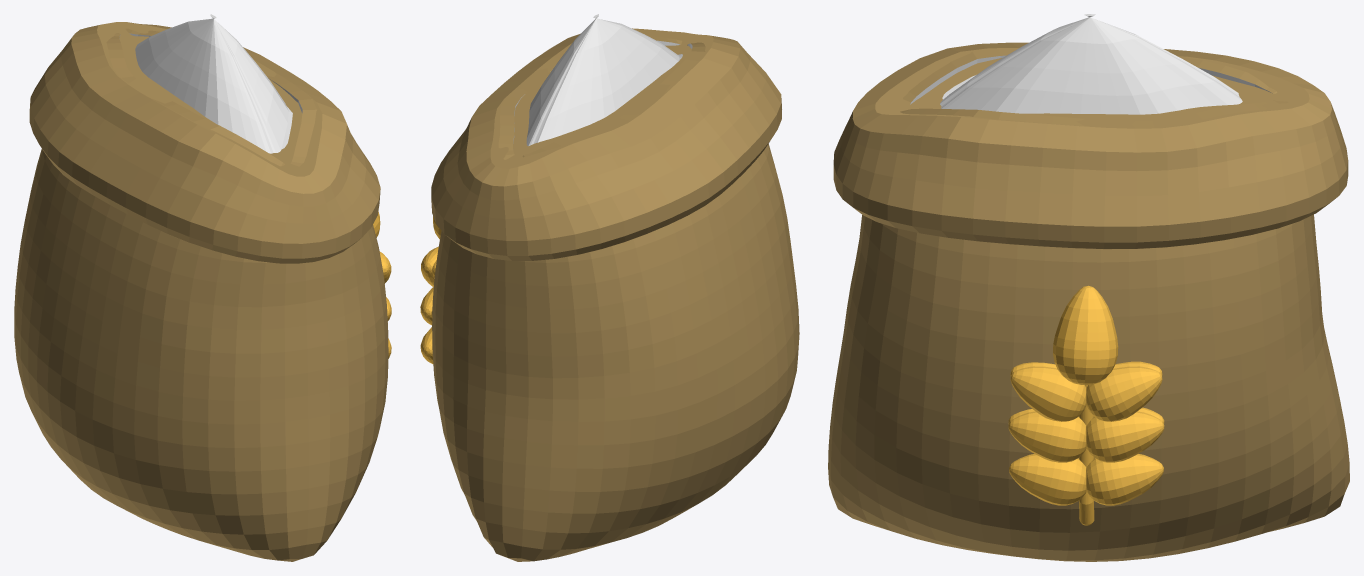
The model's file is flour - Copy.fbx.
The picture shows the model from 3 angles, left to right: view 1: azimuth 30°, elevation 25°; view 2: azimuth 150°, elevation 25°; view 3: azimuth 270°, elevation 25°; orthographic projection. The views are drawn at different scales.
Parts seen in each view (by area): view 1: Plane, Plane.002, Plane.003, Plane.001; view 2: Plane, Plane.002, Plane.003, Plane.001; view 3: Plane, Plane.002, Plane.003, Sphere.001, Sphere.002, Sphere.003, Sphere, Plane.001, Cylinder.
Boxes of the visible parts, box(x1,y1,x2,y2) form: Plane: box(14, 22, 388, 561); Plane.002: box(119, 14, 302, 153); Plane.003: box(97, 22, 322, 176); Plane.001: box(106, 28, 316, 166); Plane: box(431, 33, 799, 561); Plane.002: box(513, 14, 692, 146); Plane.003: box(490, 28, 713, 168); Plane.001: box(498, 36, 705, 159); Plane: box(828, 42, 1349, 561); Plane.002: box(910, 14, 1272, 114); Plane.003: box(875, 48, 1309, 128); Sphere.001: box(1010, 361, 1162, 421); Sphere.002: box(1008, 407, 1164, 462); Sphere.003: box(1009, 454, 1163, 505); Sphere: box(1053, 285, 1118, 385); Plane.001: box(900, 48, 1288, 128); Cylinder: box(1079, 385, 1094, 525).
Size of the model in its own units: 141 by 204 by 179.
